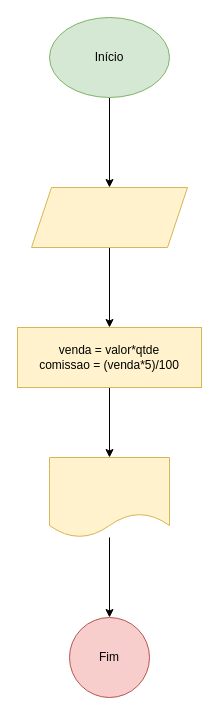
The diagram is 219 pixels wide and 715 high, and some of its shapes have lost their labels. Each missing label, with the box of its shape:
comissao: (48, 456, 170, 538)
valor, qtde: (30, 186, 188, 248)
